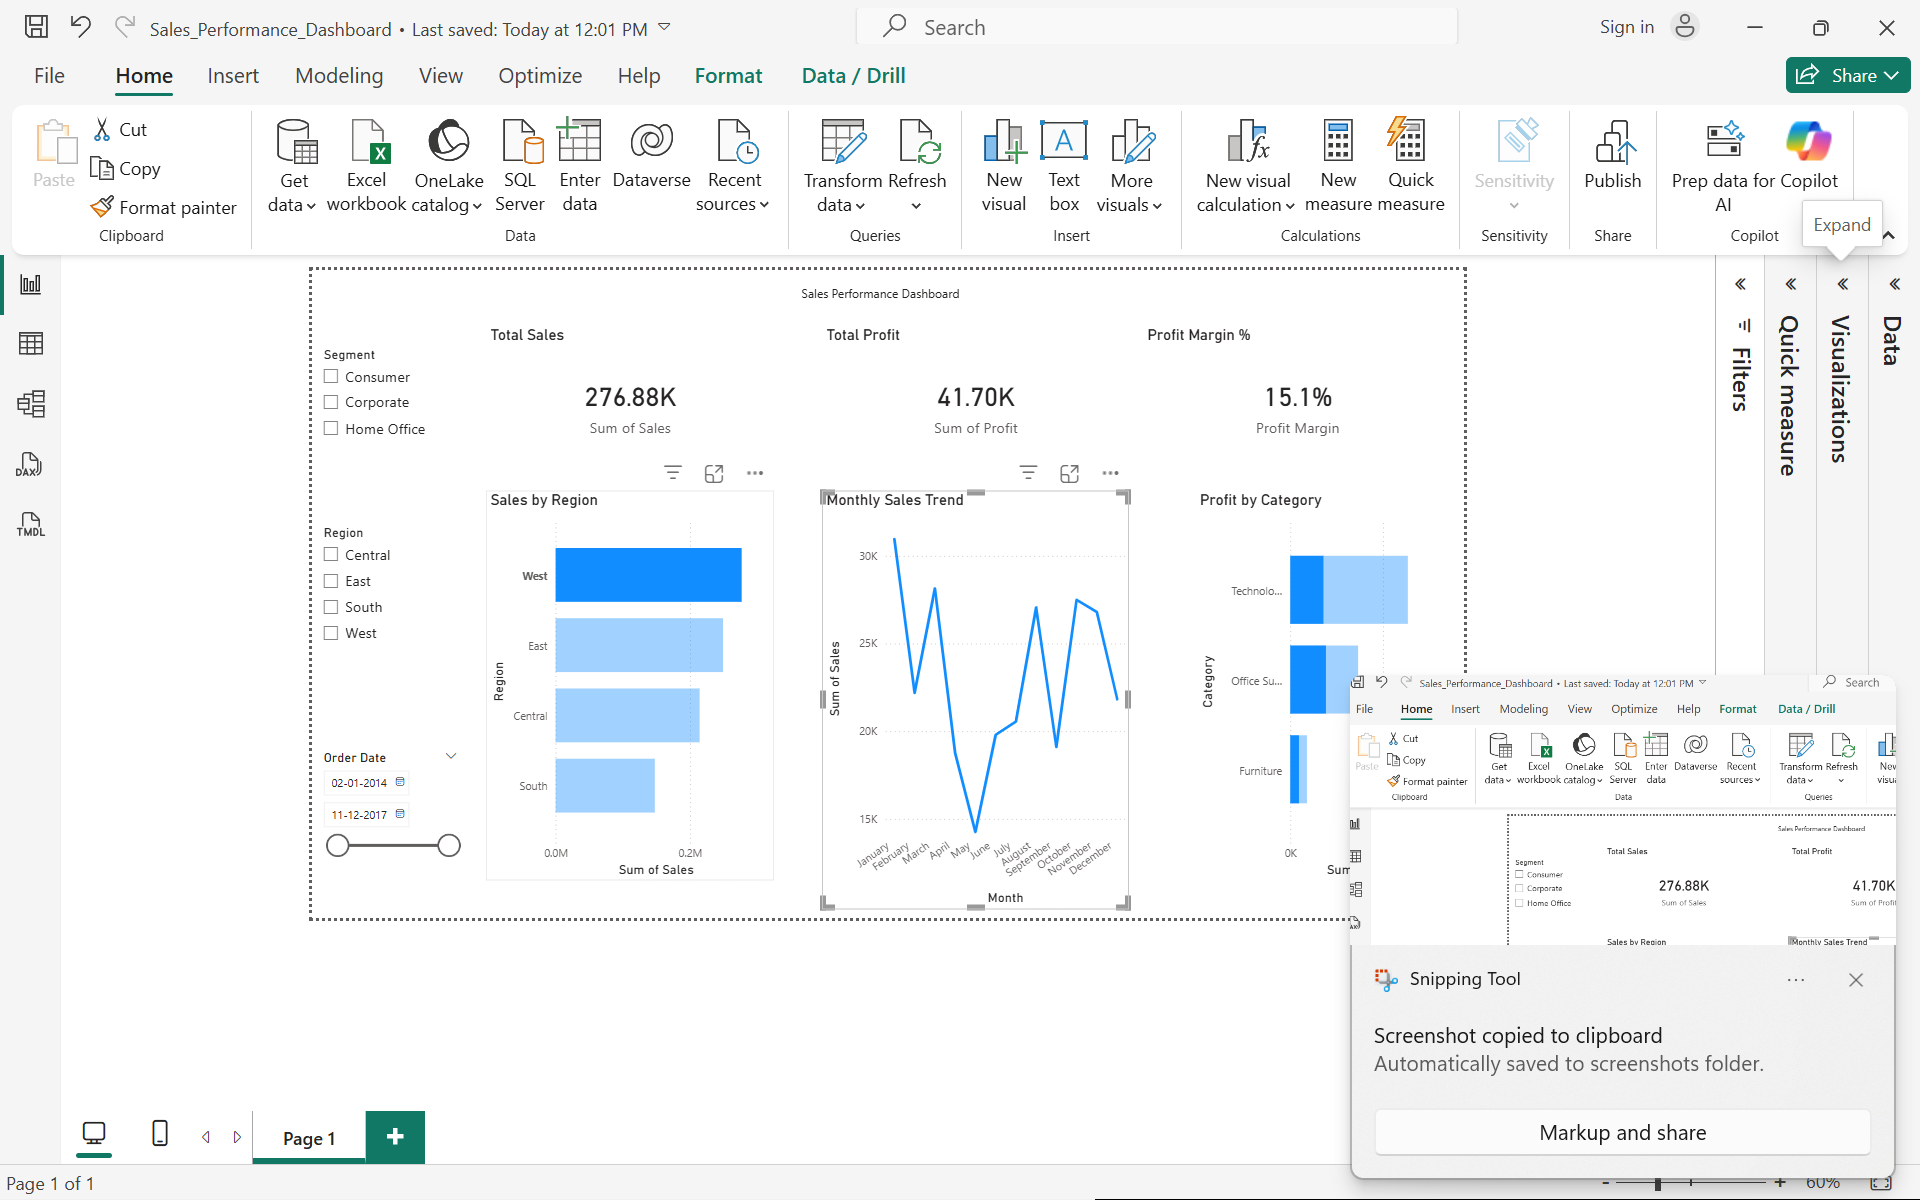

Layout of this report page (visuals, bound fields, positions):
{"tool":"powerbi","page":{"name":"Page 1","canvas":[1280,720],"ordinal":0},"visuals":[{"type":"card","title":"Total Sales","fields":{"Values":["Sum(Superstore_Dataset.Sales)"]},"box":[193.3,61.7,320,156.7],"z":0},{"type":"card","title":"Profit Margin %","fields":{"Values":["Superstore_Dataset.Profit Margin"]},"box":[923.3,61.7,343.3,156.7],"z":3},{"type":"card","title":"Total Profit","fields":{"Values":["Sum(Superstore_Dataset.Profit)"]},"box":[566.7,61.7,341.7,156.7],"z":4},{"type":"lineChart","title":"Monthly Sales Trend","fields":{"Category":["Superstore_Dataset.Order Date.Variation.Date Hierarchy.Month"],"Y":["Sum(Superstore_Dataset.Sales)"]},"box":[566.7,245,341.7,465],"z":5},{"type":"slicer","fields":{"Values":["Superstore_Dataset.Region"]},"box":[0,278.3,173.3,163.3],"z":8},{"type":"slicer","fields":{"Values":["Superstore_Dataset.Segment"]},"box":[0,80,173.3,138.3],"z":9},{"type":"slicer","fields":{"Values":["Superstore_Dataset.Order Date"]},"box":[0,528.3,173.3,191.7],"z":10},{"type":"barChart","title":"Profit by Category","fields":{"Category":["Superstore_Dataset.Category"],"Y":["Sum(Superstore_Dataset.Profit)"]},"box":[981.7,245,285,433.3],"z":12},{"type":"clusteredBarChart","title":"Sales by Region","fields":{"Category":["Superstore_Dataset.Region"],"Y":["Sum(Superstore_Dataset.Sales)"]},"box":[193.3,245,320,433.3],"z":13},{"type":"textbox","box":[281.7,0,700,61.7],"z":14}]}

Visuals, with their boxes on the page's 1280x720 design canvas (x1, y1, x2, y2). These are canvas units, not pixel positions in the 1920x1200 screenshot, which may show the page scaled, cropped or inside an application window:
"Total Sales" card: <box>193,62,513,218</box>
"Profit Margin %" card: <box>923,62,1267,218</box>
"Total Profit" card: <box>567,62,908,218</box>
"Monthly Sales Trend" lineChart: <box>567,245,908,710</box>
slicer - Superstore_Dataset.Region: <box>0,278,173,442</box>
slicer - Superstore_Dataset.Segment: <box>0,80,173,218</box>
slicer - Superstore_Dataset.Order Date: <box>0,528,173,720</box>
"Profit by Category" barChart: <box>982,245,1267,678</box>
"Sales by Region" clusteredBarChart: <box>193,245,513,678</box>
textbox: <box>282,0,982,62</box>
